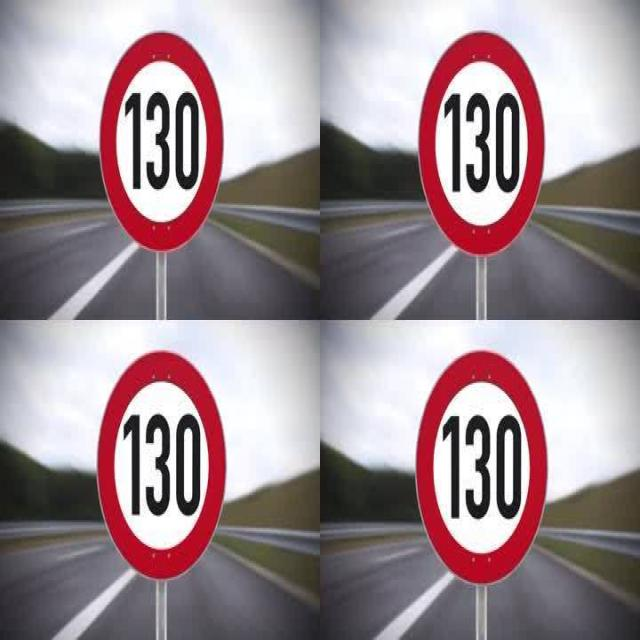speed limit 130: (415, 351, 549, 586), (98, 351, 227, 582), (417, 29, 547, 257), (99, 30, 225, 247)
